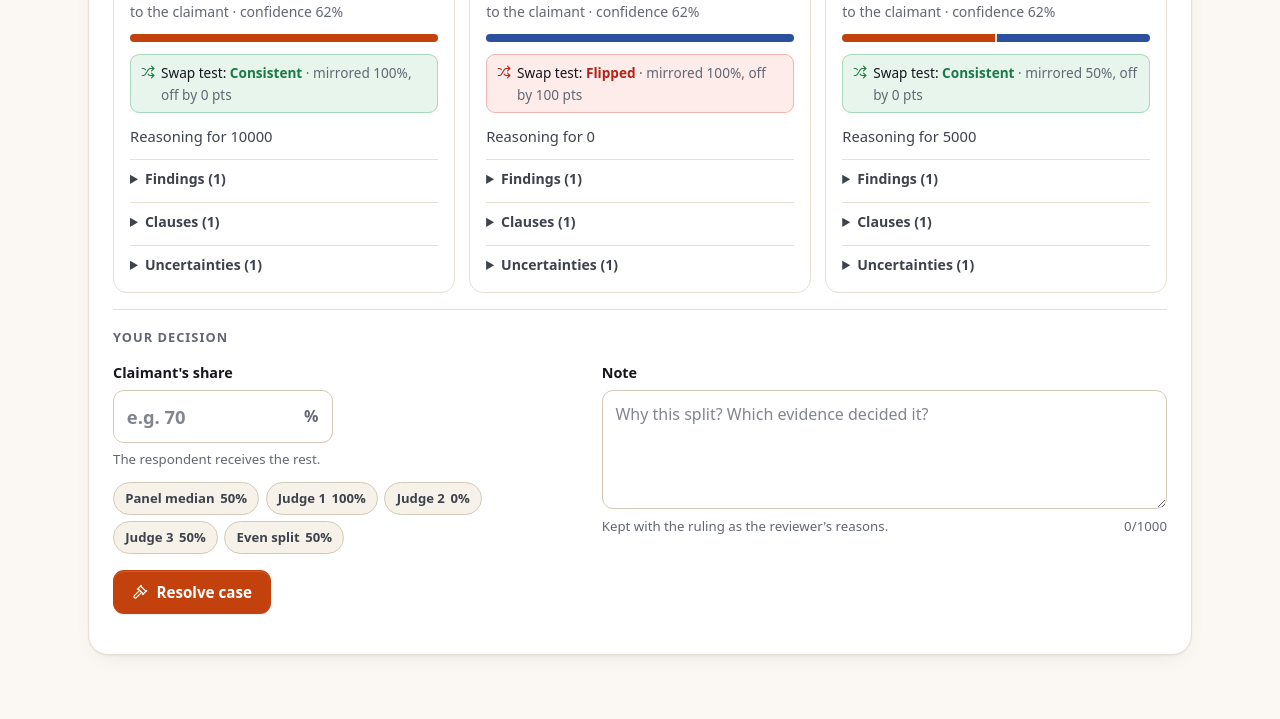
Scenario: the decision form › rejects a share of 150
(page scrolled)
Type "150" into the field with test id "share-input" at (202, 417), box left=114, top=392, right=290, bottom=442
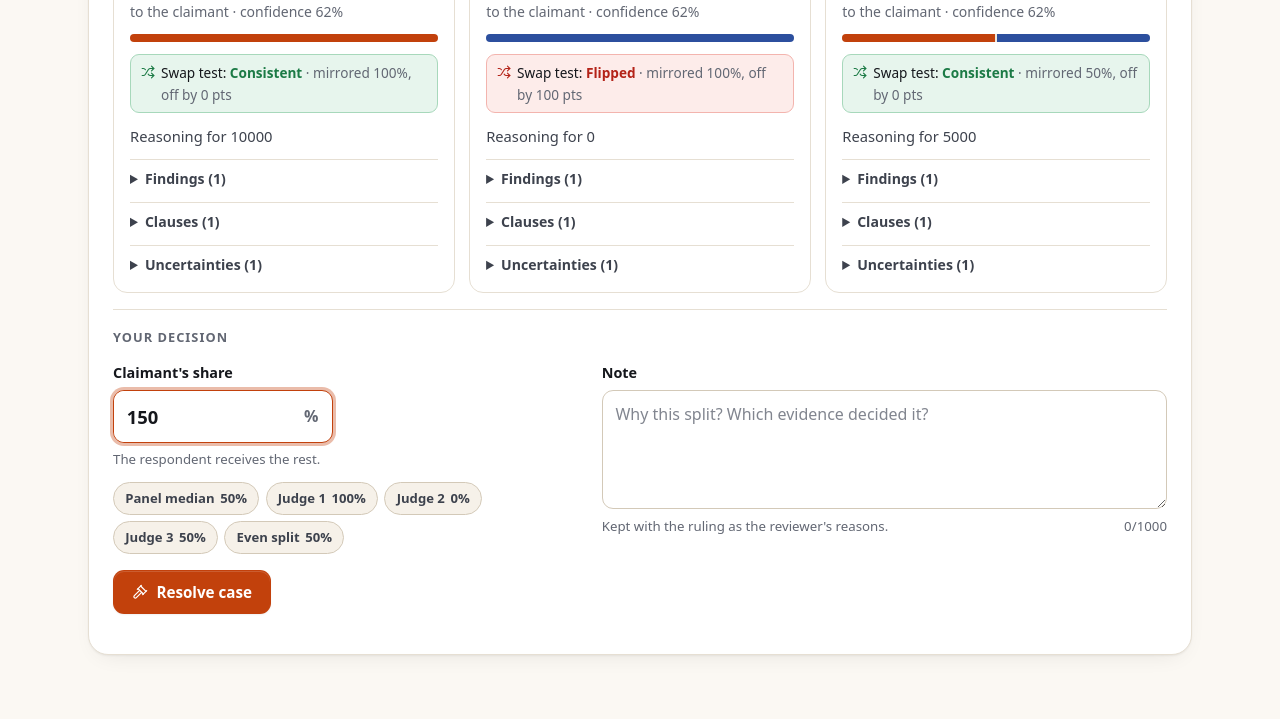
Type "Reasons." into the text box with test id "note-input" at (884, 450), box left=602, top=390, right=1167, bottom=509
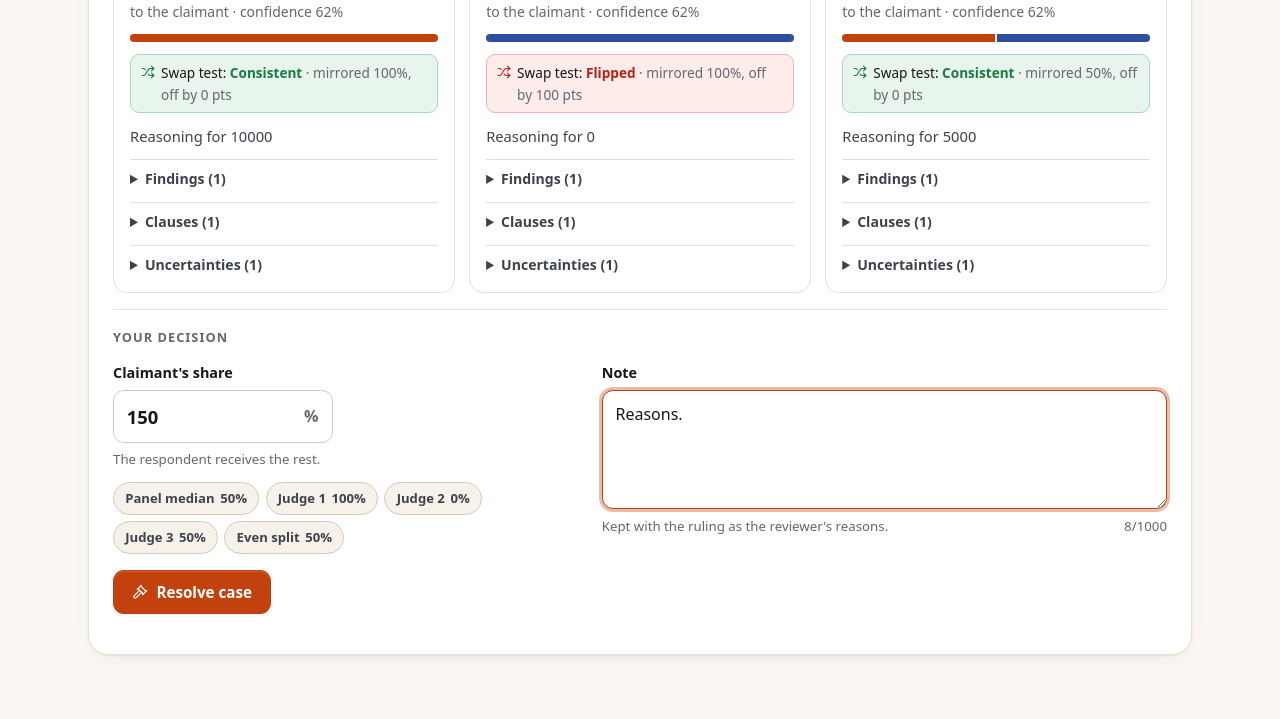
Click the button with test id "resolve" at (192, 592), box left=113, top=570, right=271, bottom=614
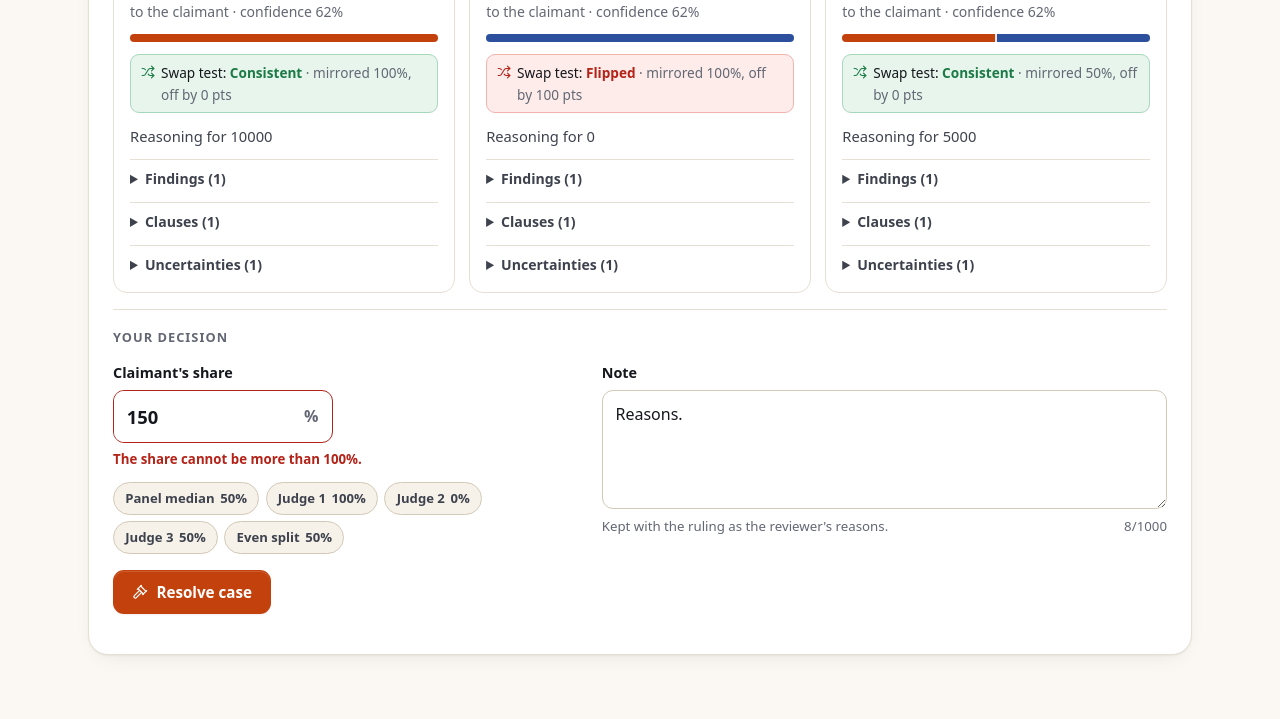
Result: the message shows "more than 100%" at left=113, top=450, right=362, bottom=468
